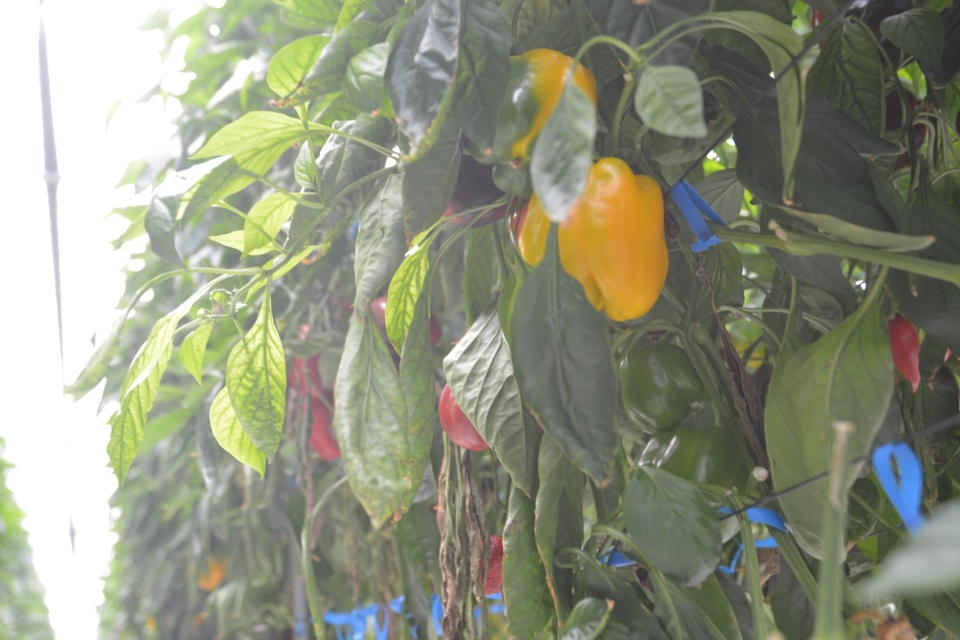fruit: (517, 155, 671, 320), (482, 47, 600, 202), (636, 404, 748, 492), (616, 339, 714, 431), (441, 137, 526, 228), (341, 294, 444, 357), (888, 312, 951, 393), (438, 380, 489, 452), (283, 324, 331, 397), (299, 392, 343, 461)
